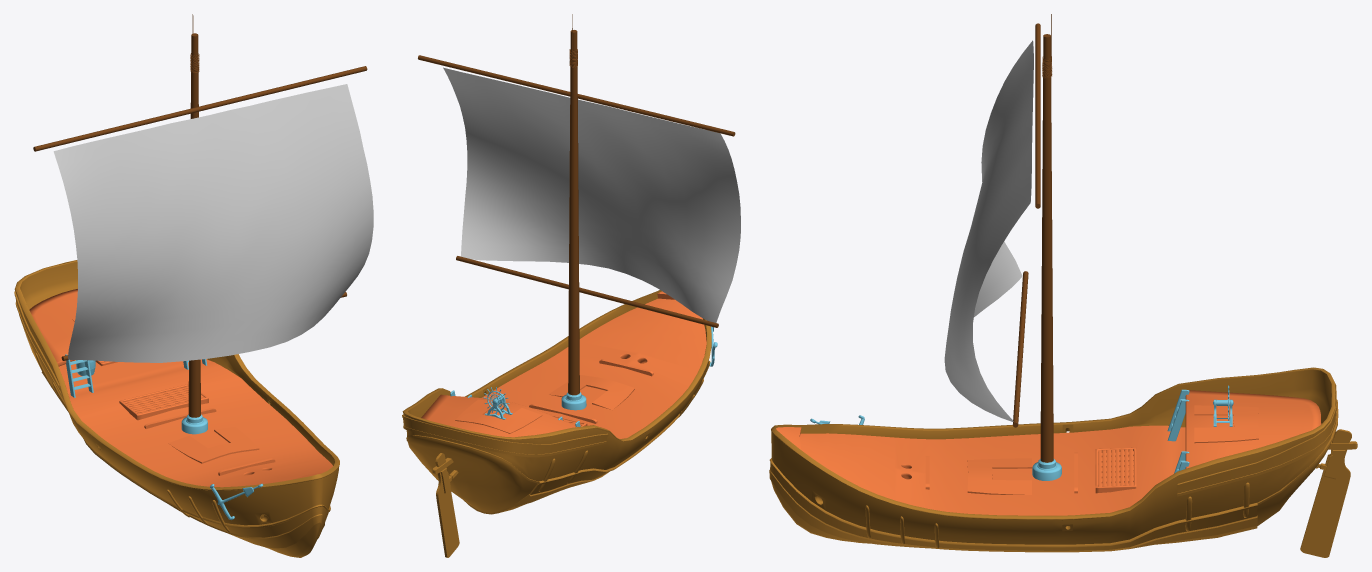
File: ship2.fbx
The picture shows the model from 3 angles, left to right: view 1: azimuth 30°, elevation 25°; view 2: azimuth 150°, elevation 25°; view 3: azimuth 270°, elevation 25°; orthographic projection. The views are drawn at different scales.
Parts seen in each view (by area): view 1: SailAnim001, PoopDeck_lo, Hull_lo, UpperDeck_lo, MidBoom, UpperHatch001_lo, Hatch, MidMast, Ladder001, HullBackDetailPlate, HullDetails; view 2: SailAnim001, Hull_lo, PoopDeck_lo, MidMast, HullBackDetailPlate, UpperDeck_lo, MidBoom, Rudder, MidBoom001, UpperHatch_lo, UpperHatch001_lo, BackBorder (+1 smaller); view 3: Hull_lo, PoopDeck_lo, SailAnim001, UpperDeck_lo, MidMast, Rudder, HullBackDetailPlate, UpperHatch001_lo, UpperHatch_lo, Hatch, MidBoom, MidBoom001 (+1 smaller).
Part boxes in pixels (box(x1,y1,x2,y2)): SailAnim001: box(53, 84, 373, 362); PoopDeck_lo: box(59, 359, 332, 487); Hull_lo: box(14, 260, 339, 557); UpperDeck_lo: box(29, 289, 77, 366); MidBoom: box(33, 66, 367, 151); UpperHatch001_lo: box(168, 427, 259, 463); Hatch: box(119, 384, 208, 420); MidMast: box(188, 33, 200, 417); Ladder001: box(65, 354, 93, 397); HullBackDetailPlate: box(14, 291, 61, 395); HullDetails: box(35, 353, 229, 532); SailAnim001: box(443, 67, 740, 322); Hull_lo: box(402, 290, 711, 514); PoopDeck_lo: box(482, 291, 706, 438); MidMast: box(568, 30, 579, 395); HullBackDetailPlate: box(402, 415, 608, 457); UpperDeck_lo: box(421, 394, 577, 437); MidBoom: box(418, 55, 735, 136); Rudder: box(432, 453, 459, 557); MidBoom001: box(456, 256, 718, 327); UpperHatch_lo: box(455, 399, 542, 433); UpperHatch001_lo: box(548, 375, 634, 409); BackBorder: box(406, 435, 539, 483); Hull_lo: box(769, 367, 1335, 552); PoopDeck_lo: box(776, 425, 1185, 515); SailAnim001: box(944, 40, 1033, 421); UpperDeck_lo: box(1185, 390, 1321, 468); MidMast: box(1040, 34, 1053, 462); Rudder: box(1300, 429, 1357, 557); HullBackDetailPlate: box(1177, 384, 1336, 496); UpperHatch001_lo: box(967, 458, 1031, 494); UpperHatch_lo: box(1194, 405, 1258, 443); Hatch: box(1095, 447, 1136, 493); MidBoom: box(1035, 23, 1040, 208); MidBoom001: box(1013, 271, 1028, 427).
Size of the model in its own units: 351 by 489 by 484.
